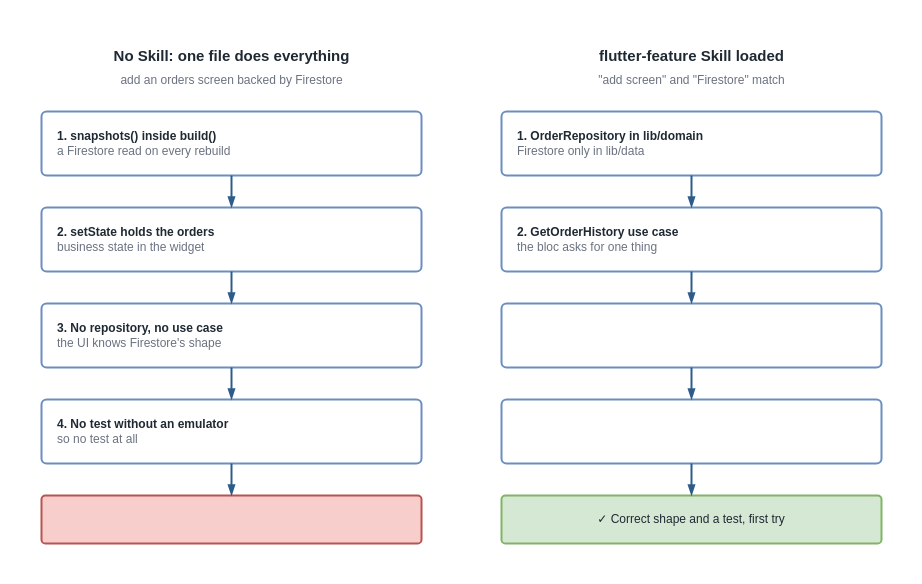
This 922x584 diagram has some shape labels left out. Here are the shapes that lost their labels. From the top down, the box of each, then its label:
(500, 302, 882, 368): 3. OrdersCubit + BlocBuilder build() only renders
(500, 398, 882, 464): 4. bloc_test with a mocked use case runs in milliseconds, no emulator
(40, 494, 422, 544): ✗ Runs on a phone, breaks under load
